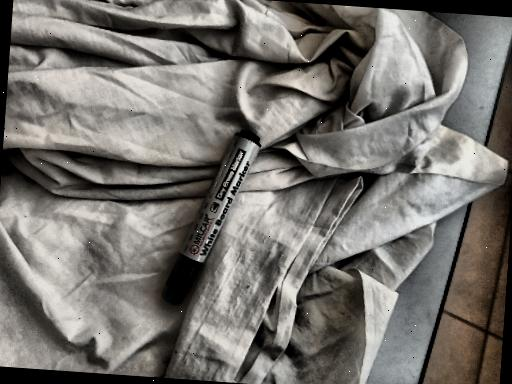marcador negro: (161, 130, 260, 305)
